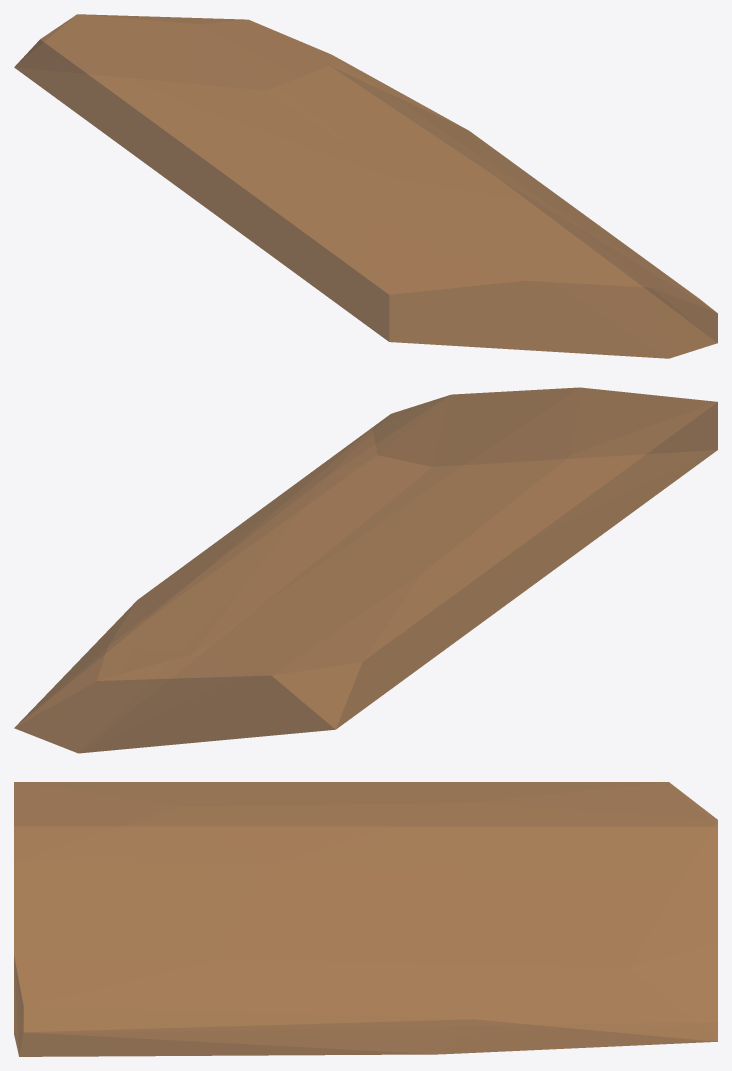
3 views of the same model, one above another, from view 1: azimuth 30°, elevation 25°; view 2: azimuth 150°, elevation 25°; view 3: azimuth 270°, elevation 25° (orthographic). The views are drawn at different scales.
Parts seen in each view (by area): view 1: Shape_IndexedFaceSet.030_Shape_IndexedFaceSet.10740; view 2: Shape_IndexedFaceSet.030_Shape_IndexedFaceSet.10740; view 3: Shape_IndexedFaceSet.030_Shape_IndexedFaceSet.10740.
Boxes of the visible parts, left/top/right/bottom form: Shape_IndexedFaceSet.030_Shape_IndexedFaceSet.10740: left=14, top=14, right=717, bottom=358; Shape_IndexedFaceSet.030_Shape_IndexedFaceSet.10740: left=14, top=387, right=717, bottom=753; Shape_IndexedFaceSet.030_Shape_IndexedFaceSet.10740: left=14, top=782, right=717, bottom=1056.
Size of the model in its own units: 0.1222 by 0.0462 by 0.2378.
